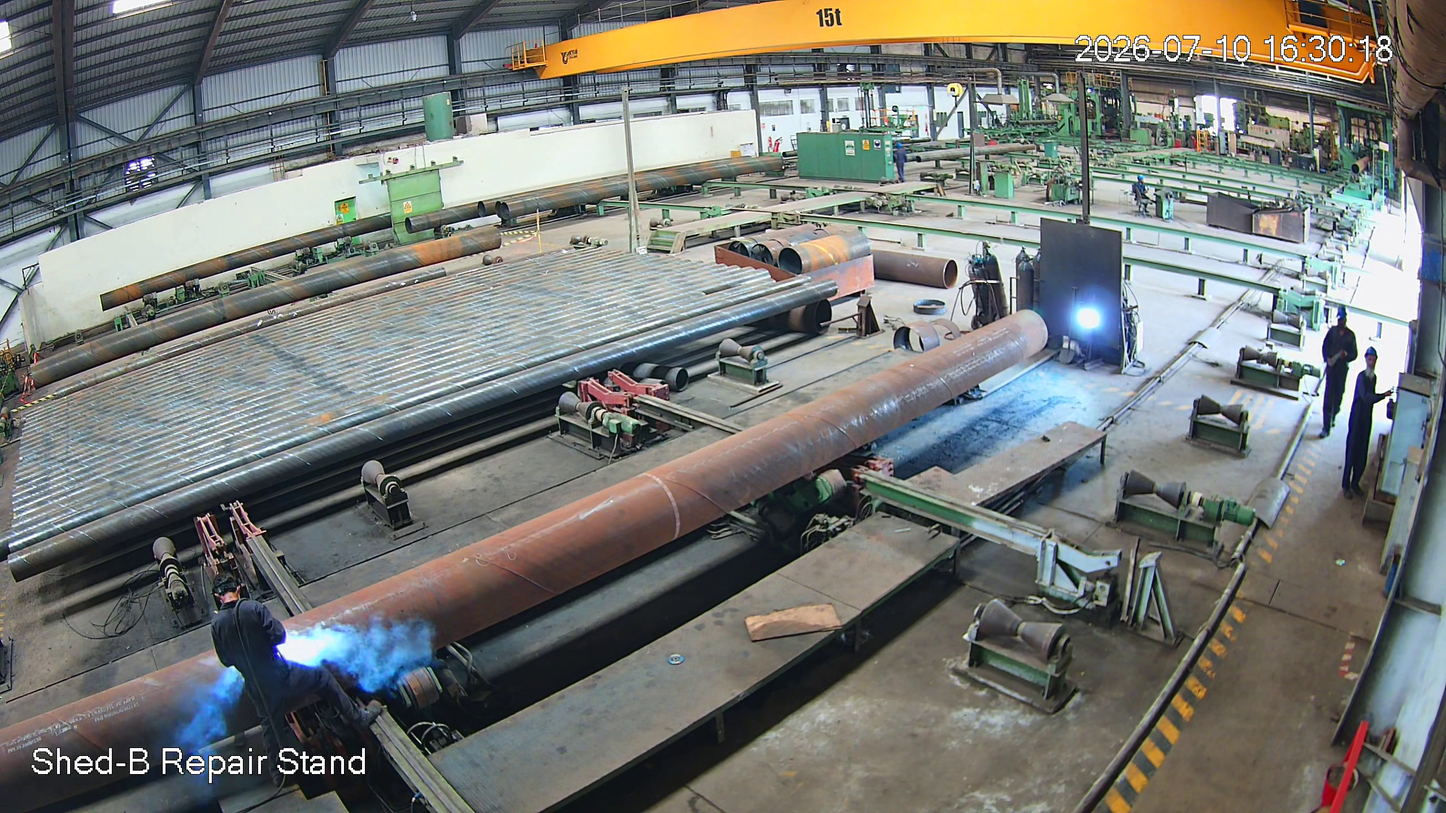Helmet: (204, 572, 260, 627), (1329, 302, 1359, 332), (1361, 343, 1383, 382)
Person: (202, 576, 356, 780), (1340, 346, 1385, 502), (1315, 306, 1358, 439)
